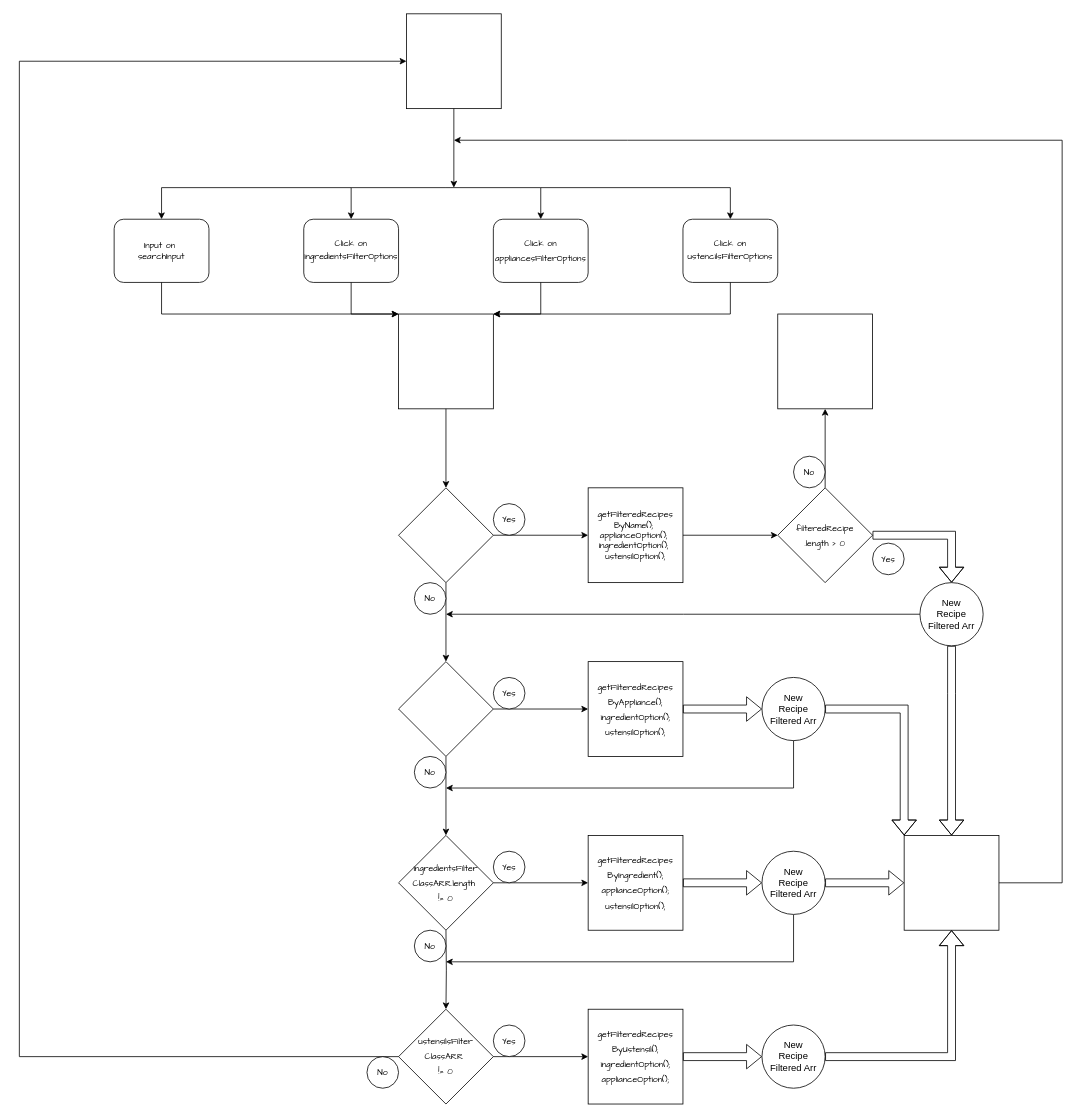
The diagram is 1082 pixels wide and 1118 high, and some of its shapes have lost their labels. Here are the shapes that lost their labels. From the top down, the centre of each, then its label:
(x=453, y=61): DisplayRecipe()
(x=445, y=361): GlobalSearch()
(x=825, y=361): displayError Input
(x=445, y=535): searchText length >= 3
(x=445, y=708): appliancesFilter ClassARR. length != 0
(x=951, y=882): DisplayFilteredRecipe()
